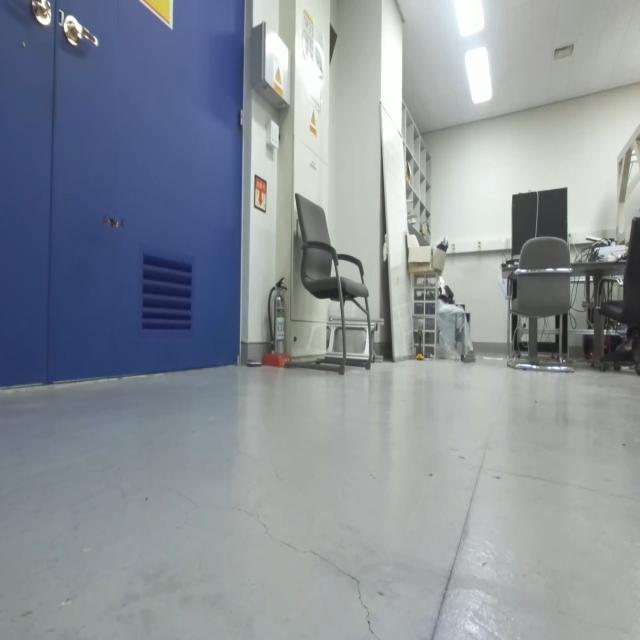crazyflie: (95, 204, 133, 242)
